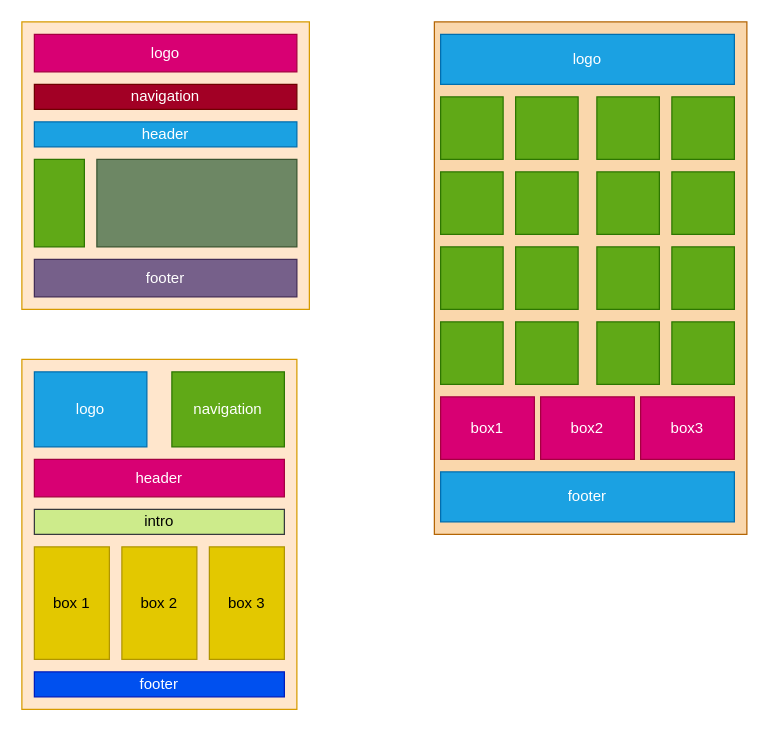
The diagram is 769 pixels wide and 731 high, and some of its shapes have lost their labels. The shapes that lost their labels are listed below. From the top down, each one's box as (x1, y1, x2, y2) in pixels, then its label:
(33, 158, 84, 247): side area
(96, 158, 297, 247): body area
